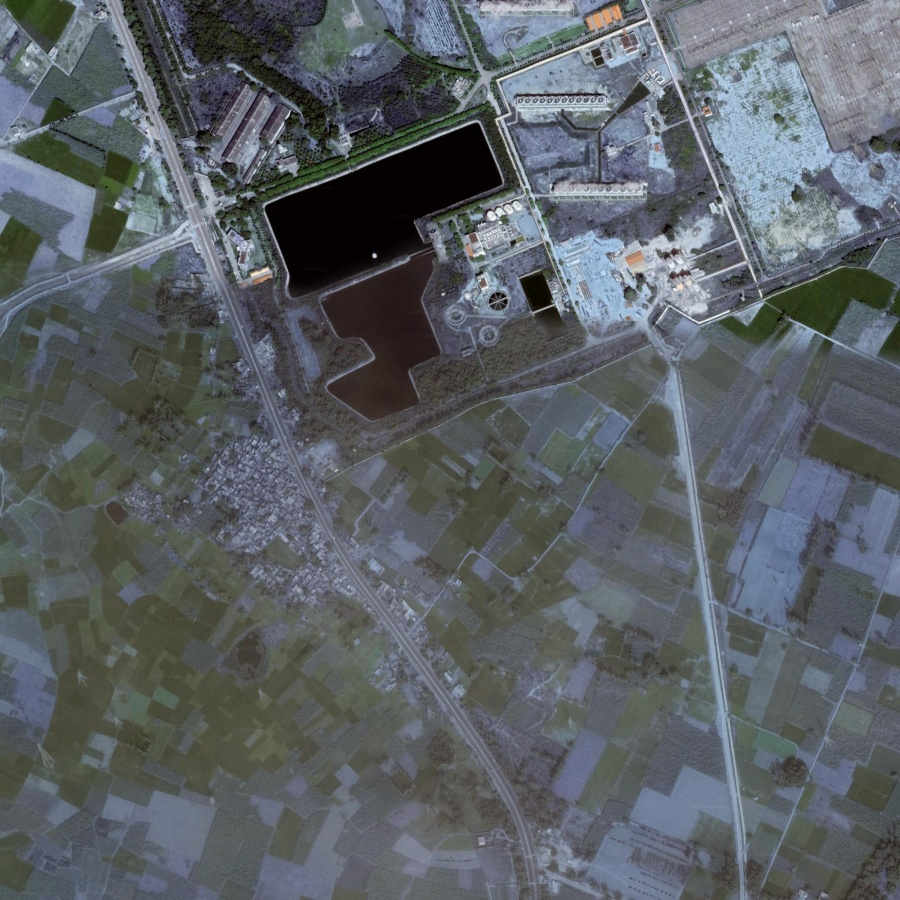PowerPlant: (244, 113, 514, 341)
